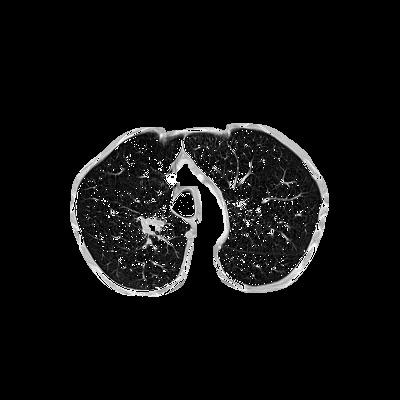PN: (139, 215, 163, 239)
